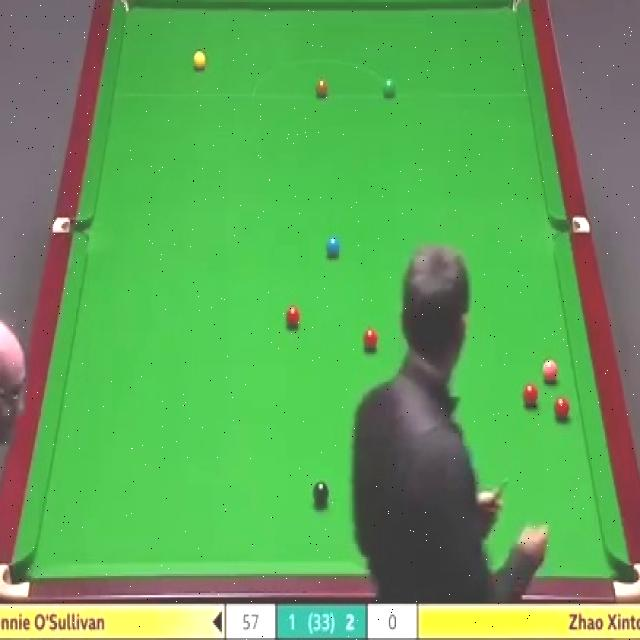black-ball: (313, 481, 330, 506)
blue-ball: (326, 232, 341, 260)
brown-ball: (314, 78, 330, 97)
green-ball: (381, 75, 397, 99)
red-ball: (523, 382, 541, 412), (541, 360, 561, 383), (554, 398, 571, 423), (363, 326, 378, 354), (285, 304, 300, 326)
yellow-ball: (194, 52, 206, 72)
